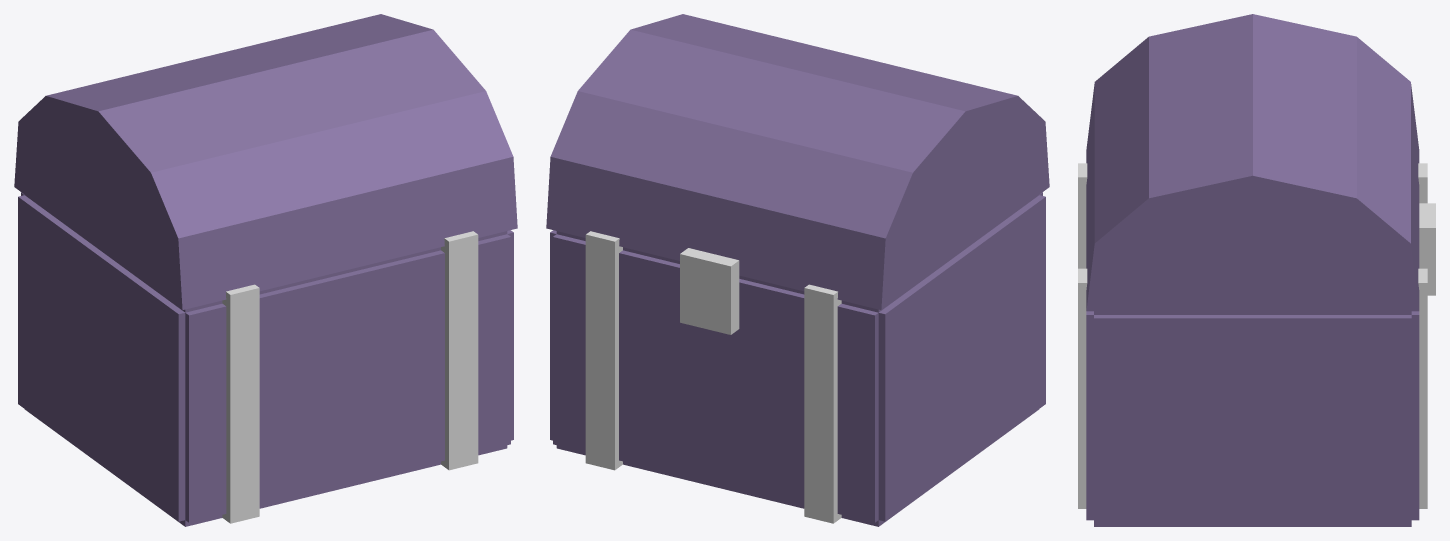
Rendered from ebonwood_chest_v0.glb.
3 views of the same model, side by side, from view 1: azimuth 30°, elevation 25°; view 2: azimuth 150°, elevation 25°; view 3: azimuth 270°, elevation 25° (orthographic).
Parts seen in each view (by area): view 1: ebonwood_chest_v0; view 2: ebonwood_chest_v0; view 3: ebonwood_chest_v0.
Boxes of the visible parts, x1,y1,x2,y2 form: ebonwood_chest_v0: (14,14,517,526); ebonwood_chest_v0: (546,14,1049,526); ebonwood_chest_v0: (1078,14,1435,526).
Size of the model in its own units: 0.92 by 0.94 by 0.86.
